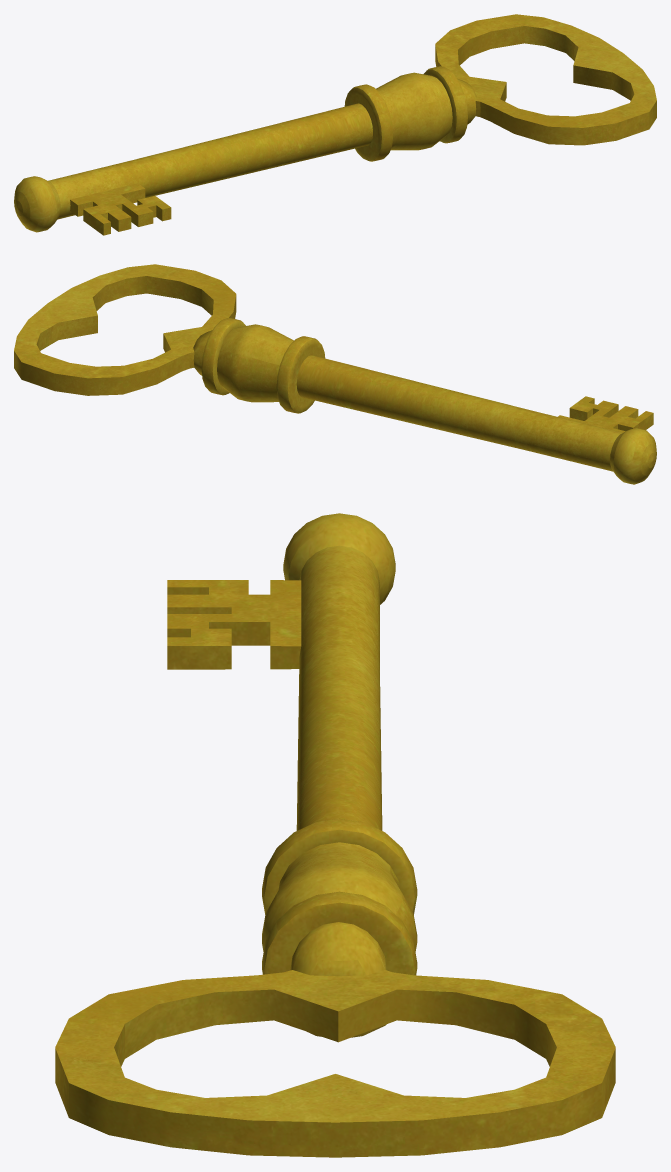
The model's file is basickey.fbx.
The picture shows the model from 3 angles, top to bottom: view 1: azimuth 30°, elevation 25°; view 2: azimuth 150°, elevation 25°; view 3: azimuth 270°, elevation 25°; orthographic projection. The views are drawn at different scales.
Visible parts, largest first — view 1: pPipe6; view 2: pPipe6; view 3: pPipe6.
Part boxes in pixels (bbox=[...]): pPipe6: bbox=[14, 14, 656, 235]; pPipe6: bbox=[14, 264, 656, 484]; pPipe6: bbox=[55, 513, 615, 1157].
Bounding box in the file's own units: 2.92 × 0.3251 × 1.17.
